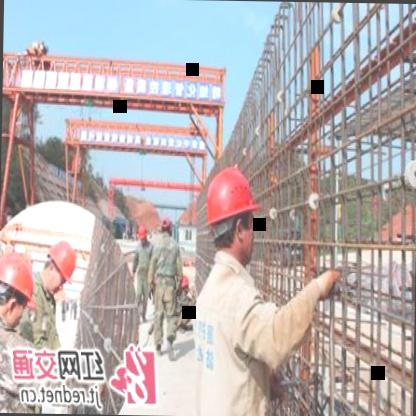helmet: (197, 165, 261, 266), (0, 247, 40, 332), (38, 236, 80, 296), (136, 223, 148, 249)
